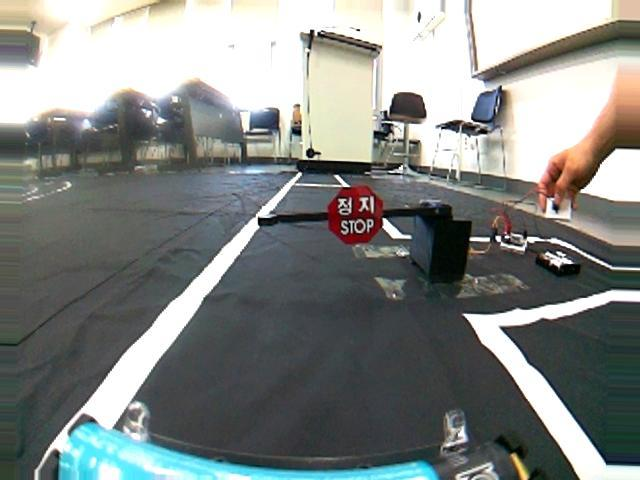sign_stop: (330, 186, 384, 244)
straight: (7, 257, 640, 480)
